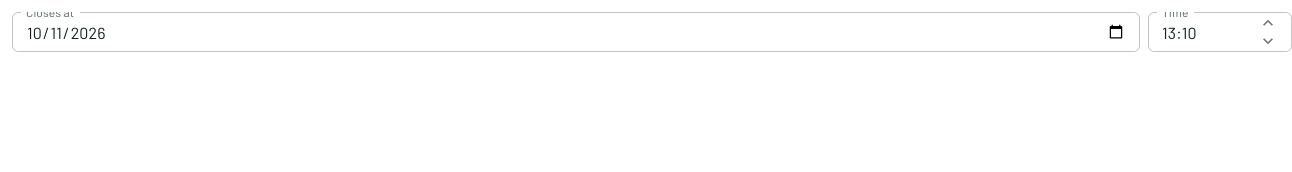
Test: DateTimeField › stepper › the arrows step to the next and previous quarter hour
Step 1. Click the button named "Closes at: 15 minutes later" → (1268, 23), box top-left (1254, 14), bottom-right (1282, 32)
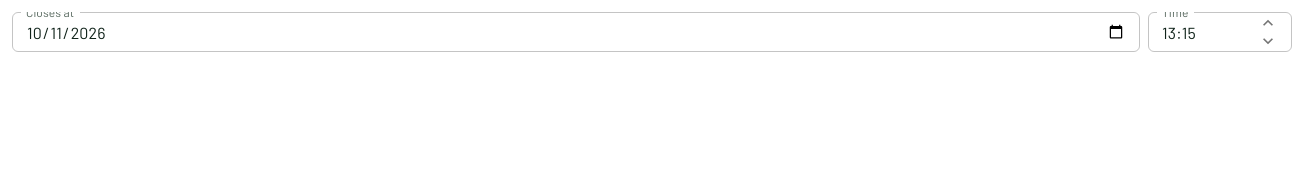
Check: the field named "Closes at (time)" holds "13:15", box top-left (1148, 12), bottom-right (1254, 52)
Step 2. Click the button named "Closes at: 15 minutes later" → (1268, 23), box top-left (1254, 14), bottom-right (1282, 32)
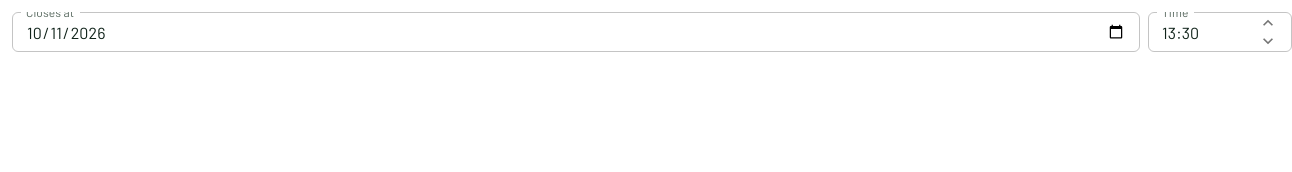
Check: the field named "Closes at (time)" holds "13:30", box top-left (1148, 12), bottom-right (1254, 52)
Step 3. Click the button named "Closes at: 15 minutes earlier" → (1268, 41), box top-left (1254, 32), bottom-right (1282, 50)
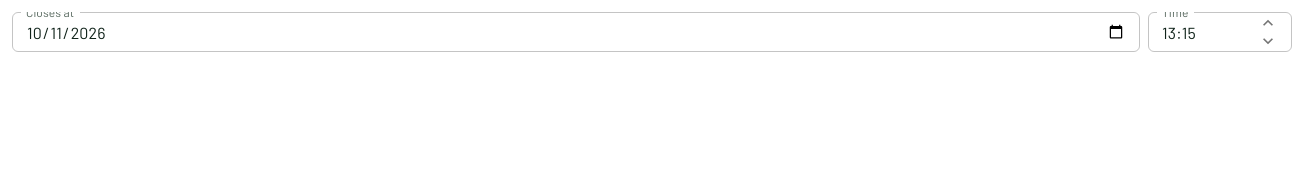
Check: the field named "Closes at (time)" holds "13:15", box top-left (1148, 12), bottom-right (1254, 52)
